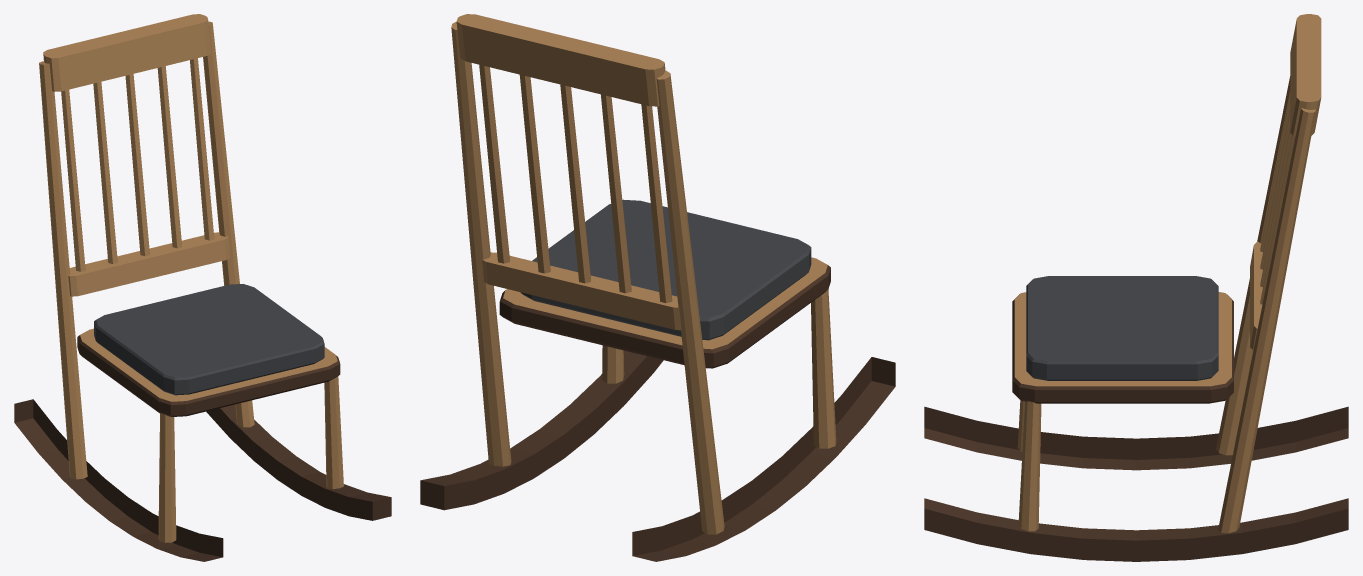
The model's file is FN_Chair_Rocking.obj.
3 views of the same model, side by side, from view 1: azimuth 30°, elevation 25°; view 2: azimuth 150°, elevation 25°; view 3: azimuth 270°, elevation 25° (orthographic). The views are drawn at different scales.
Visible parts, largest first — view 1: FN_Chair_Rocking; view 2: FN_Chair_Rocking; view 3: FN_Chair_Rocking.
Part boxes in pixels (x1=…): FN_Chair_Rocking: x1=14, y1=14, x2=391, y2=561; FN_Chair_Rocking: x1=420, y1=14, x2=895, y2=561; FN_Chair_Rocking: x1=924, y1=14, x2=1348, y2=561.
Size of the model in its own units: 0.512 by 1.06 by 0.9.
1 material, 1 textured.
